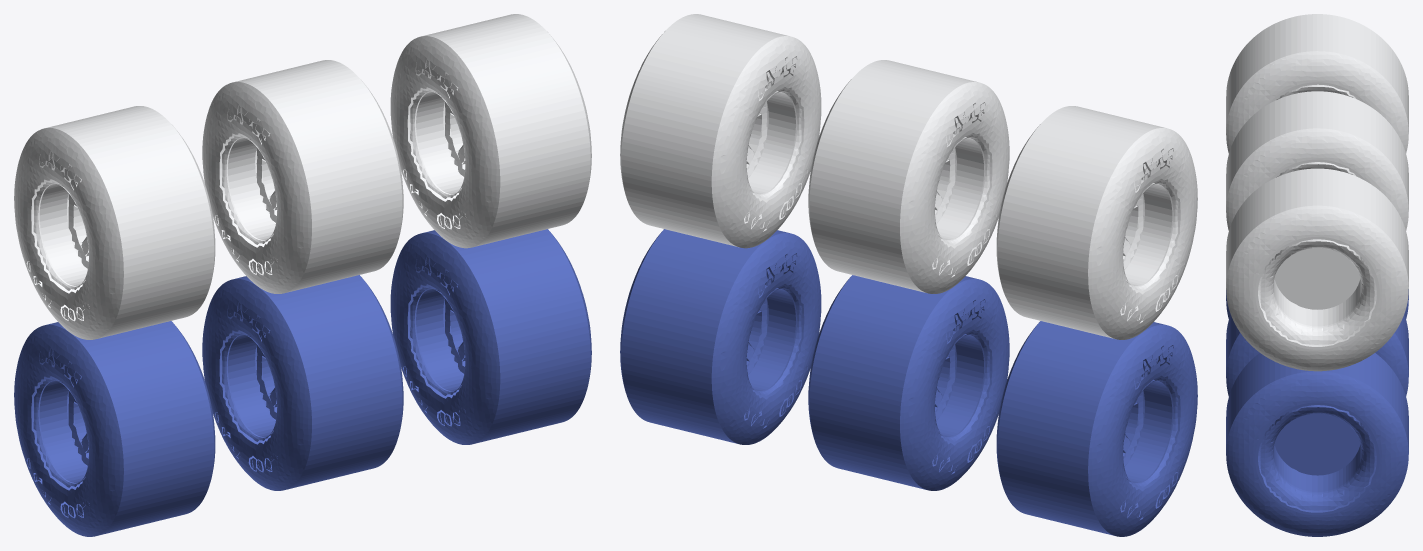
File: tire_barrier_jordan_6.glb
3 renders of one model, left to right at view 1: azimuth 30°, elevation 25°; view 2: azimuth 150°, elevation 25°; view 3: azimuth 270°, elevation 25°, orthographic. The views are drawn at different scales.
Visible parts, largest first — view 1: rl_000.001; view 2: rl_000.001; view 3: rl_000.001.
Boxes of the visible parts, x1=… form: rl_000.001: x1=14, y1=14, x2=591, y2=536; rl_000.001: x1=620, y1=14, x2=1197, y2=536; rl_000.001: x1=1226, y1=14, x2=1408, y2=536.
Bounding box in the file's own units: 1.81 × 1.39 × 0.6946.
